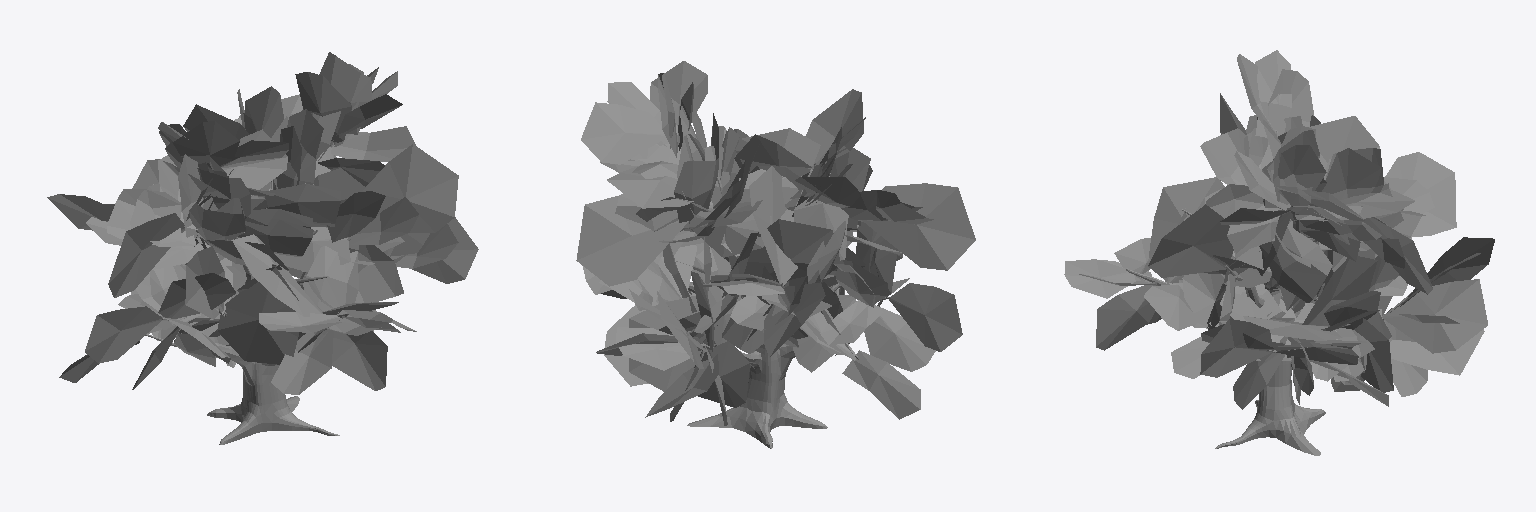
The model's file is tree_02.obj.
The picture shows the model from 3 angles: view 1: azimuth 30°, elevation 25°; view 2: azimuth 150°, elevation 25°; view 3: azimuth 270°, elevation 25°; orthographic projection.
Parts seen in each view (by area): view 1: oaktree.001; view 2: oaktree.001; view 3: oaktree.001.
Part boxes in pixels (x1,y1,x2,y2): oaktree.001: (47,52,478,444); oaktree.001: (576,61,975,448); oaktree.001: (1064,50,1494,455).
Bounding box in the file's own units: 43.26 × 38.44 × 44.07.